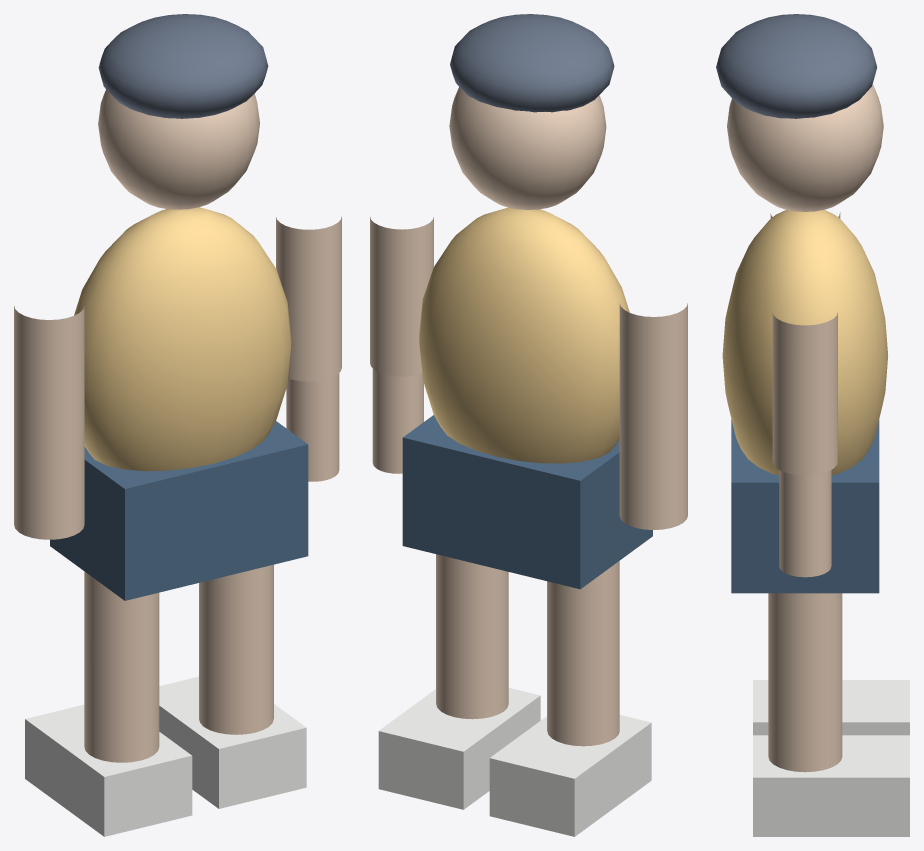
Rendered from athlete-gold.glb.
3 views of the same model, side by side, from view 1: azimuth 30°, elevation 25°; view 2: azimuth 150°, elevation 25°; view 3: azimuth 270°, elevation 25° (orthographic). The views are drawn at different scales.
Visible parts, largest first — view 1: jersey, shorts, off arm, hair, left shoe, head, left leg, right leg, right shoe, upper arm, forearm; view 2: jersey, shorts, off arm, head, left shoe, hair, left leg, right shoe, right leg, upper arm, forearm; view 3: jersey, shorts, right shoe, hair, right leg, head, upper arm, forearm, left shoe.
Boxes of the visible parts, box(x1,y1,x2,y2) form: jersey: box(74, 207, 291, 471); shorts: box(50, 421, 308, 600); off arm: box(14, 305, 84, 539); hair: box(98, 14, 268, 118); left shoe: box(25, 704, 192, 836); head: box(98, 89, 259, 209); left leg: box(84, 571, 159, 762); right leg: box(199, 564, 273, 734); right shoe: box(159, 676, 306, 808); upper arm: box(276, 216, 341, 381); forearm: box(286, 373, 339, 481); jersey: box(419, 207, 629, 463); shorts: box(402, 415, 652, 589); off arm: box(619, 303, 687, 529); head: box(449, 87, 606, 209); left shoe: box(489, 715, 651, 836); hair: box(450, 14, 614, 112); left leg: box(547, 561, 619, 746); right shoe: box(378, 688, 540, 809); right leg: box(436, 554, 508, 719); upper arm: box(370, 217, 433, 376); forearm: box(372, 368, 423, 473); jersey: box(722, 210, 888, 475); shorts: box(731, 419, 879, 593); right shoe: box(753, 735, 909, 836); hair: box(716, 14, 877, 118); right leg: box(768, 593, 842, 772); head: box(727, 84, 883, 211); upper arm: box(772, 312, 837, 475); forearm: box(779, 470, 831, 577); left shoe: box(753, 680, 909, 735).
Bounding box in the file's own units: 0.835 × 1.93 × 0.445.
